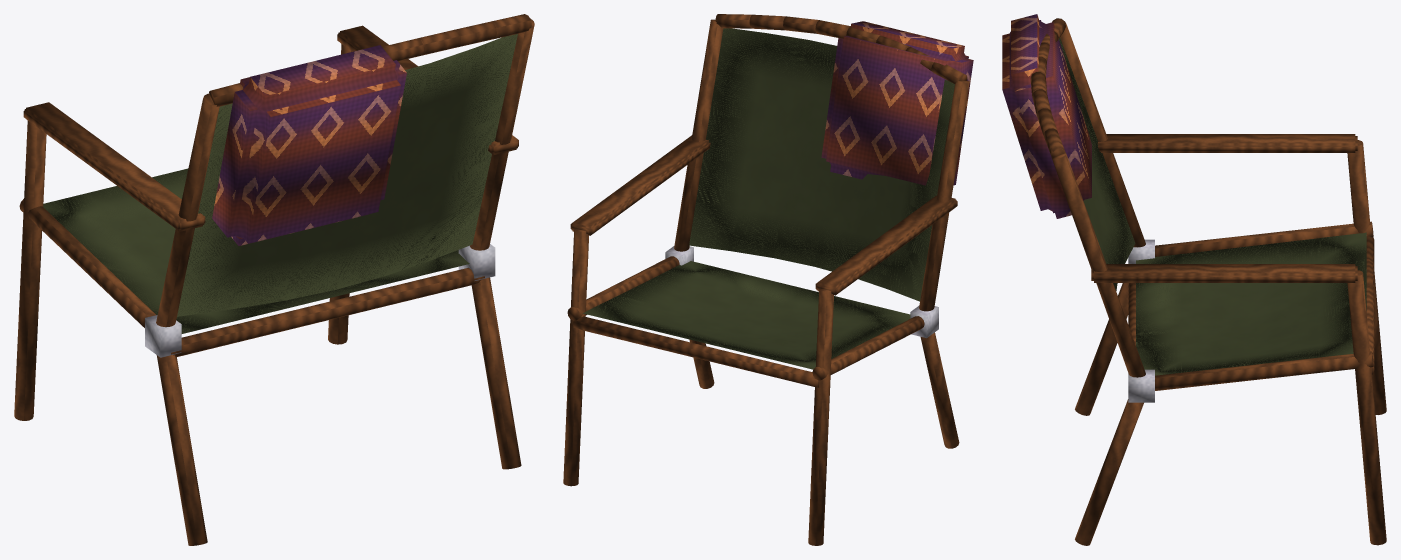
Rendered from kermit_chair.glb.
3 views of the same model, side by side, from view 1: azimuth 30°, elevation 25°; view 2: azimuth 150°, elevation 25°; view 3: azimuth 270°, elevation 25° (orthographic). The views are drawn at different scales.
Parts seen in each view (by area): view 1: KermitCanvas, KermitFrame, KermitBlanket, KermitBrackets; view 2: KermitCanvas, KermitFrame, KermitBlanket, KermitBrackets; view 3: KermitFrame, KermitCanvas, KermitBlanket, KermitBrackets.
Boxes of the visible parts, x1,y1,x2,y2 form: KermitCanvas: (43, 34, 517, 333); KermitFrame: (14, 14, 534, 545); KermitBlanket: (212, 45, 406, 245); KermitBrackets: (145, 244, 495, 357); KermitCanvas: (583, 28, 954, 369); KermitFrame: (563, 14, 969, 545); KermitBlanket: (821, 21, 973, 185); KermitBrackets: (665, 246, 938, 338); KermitFrame: (1030, 18, 1386, 545); KermitCanvas: (1059, 38, 1366, 375); KermitBlanket: (1002, 14, 1091, 218); KermitBrackets: (1128, 239, 1154, 402).
Bounding box in the file's own units: 0.566 × 0.7655 × 0.6498.
4 materials, 4 textured.
